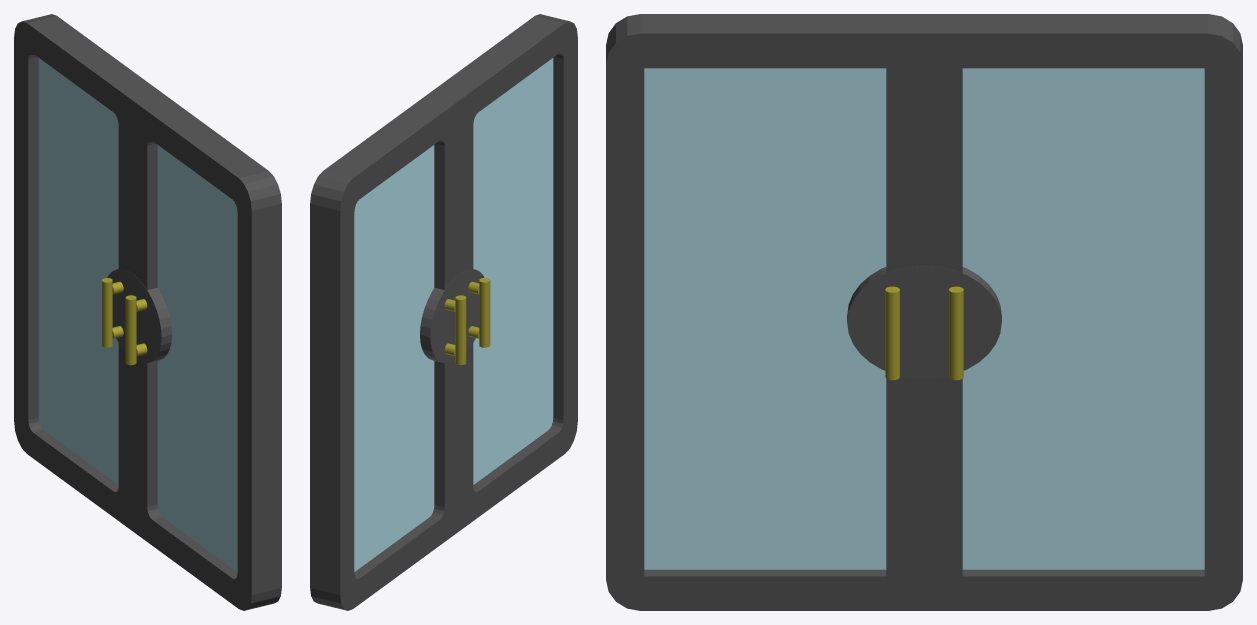
File: Kapı ma ohhh.fbx
3 renders of one model, left to right at view 1: azimuth 30°, elevation 25°; view 2: azimuth 150°, elevation 25°; view 3: azimuth 270°, elevation 25°, orthographic. The views are drawn at different scales.
Parts seen in each view (by area): view 1: Cube.001; view 2: Cube.001; view 3: Cube.001.
Part boxes in pixels (x1,y1,x2,y2): Cube.001: (14,14,281,610); Cube.001: (310,14,577,610); Cube.001: (606,14,1242,610).
Size of the model in its own units: 32.11 by 200 by 200.
